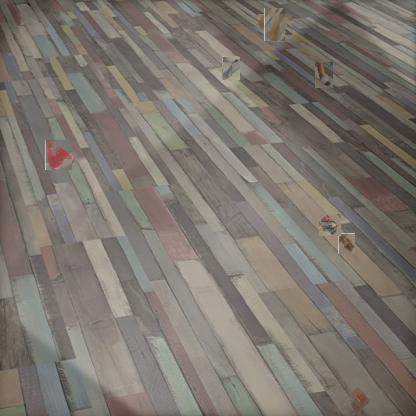dirty: (346, 385, 372, 415), (319, 214, 341, 236), (315, 62, 333, 88), (222, 56, 240, 80), (338, 233, 355, 254)
liquid: (45, 141, 73, 170), (261, 11, 289, 38)
